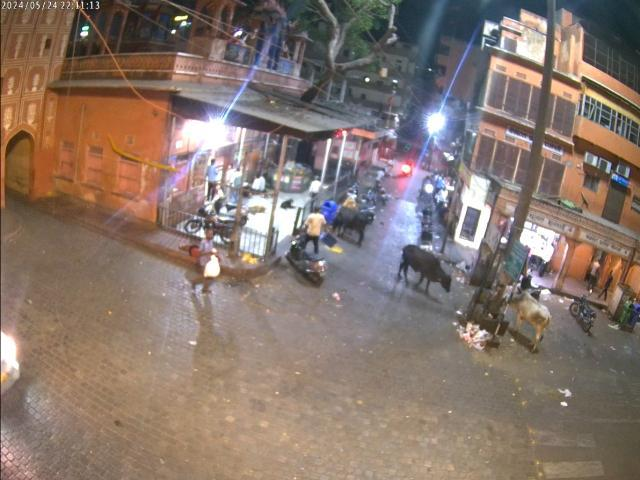cattle: (499, 290, 552, 352), (399, 242, 452, 294), (329, 206, 368, 248)
motorbike: (570, 290, 598, 332)
person: (189, 230, 223, 296), (300, 207, 328, 256)
scooty: (286, 234, 329, 284)
